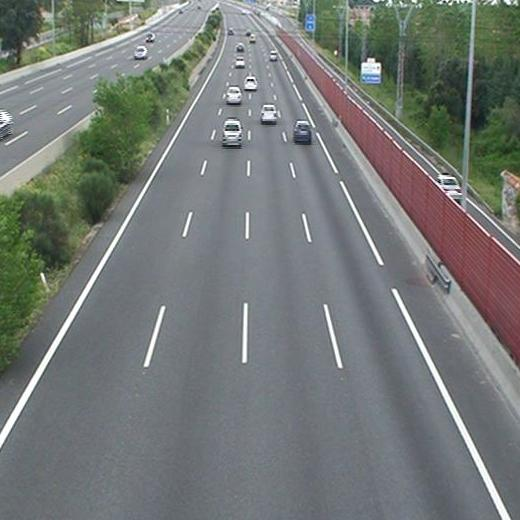car: (223, 120, 243, 147), (294, 121, 311, 141), (261, 104, 276, 123), (225, 86, 242, 101), (244, 77, 256, 92), (235, 56, 245, 68), (269, 50, 277, 61), (237, 44, 244, 51)
